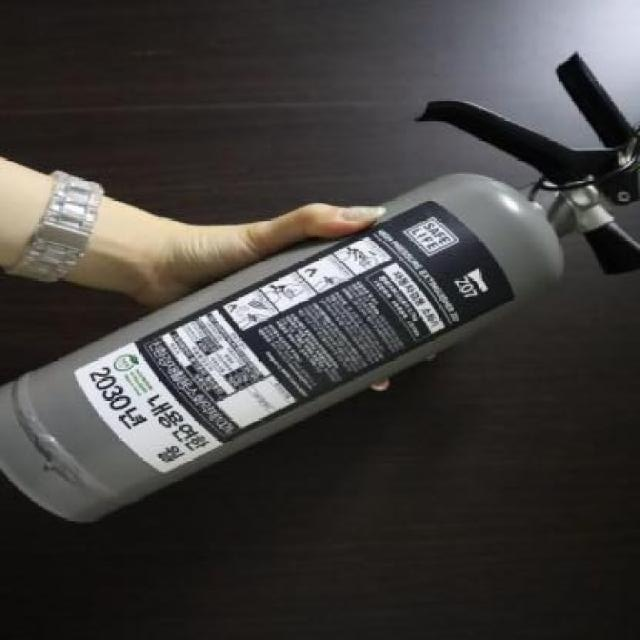fire extinguisher: (0, 53, 640, 524)
